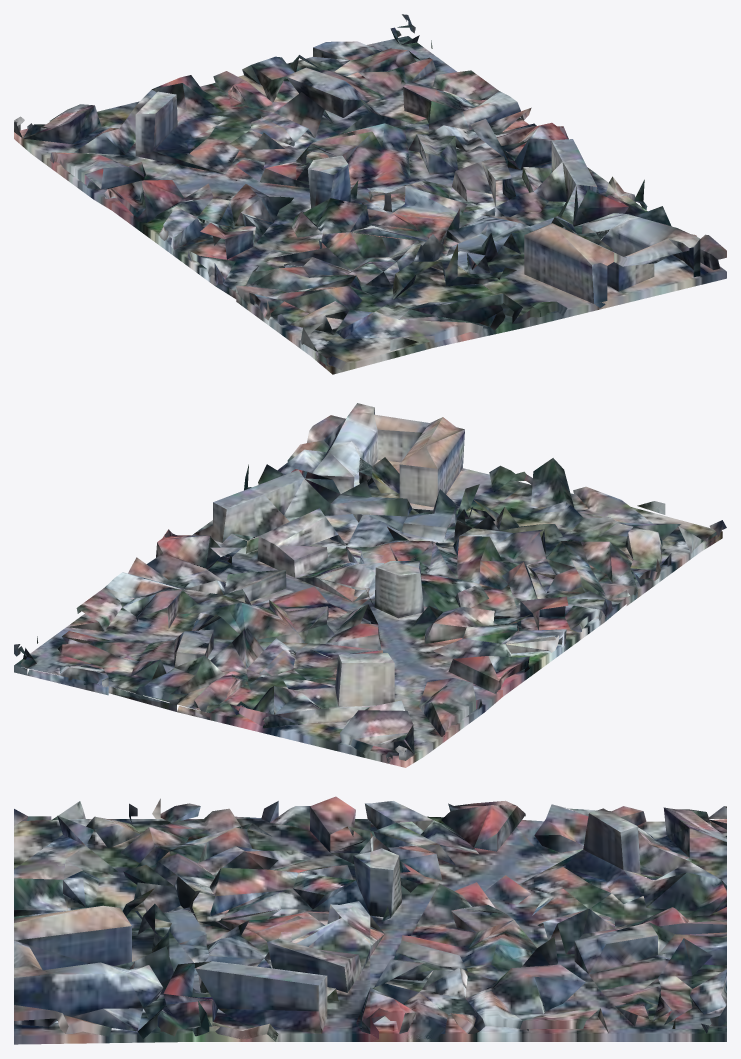
3 views of the same model, one above another, from view 1: azimuth 30°, elevation 25°; view 2: azimuth 150°, elevation 25°; view 3: azimuth 270°, elevation 25° (orthographic). The views are drawn at different scales.
Visible parts, largest first — view 1: 30436272704361426_0; view 2: 30436272704361426_0; view 3: 30436272704361426_0.
Part boxes in pixels (x1,y1,x2,y2): 30436272704361426_0: [14, 14, 726, 374]; 30436272704361426_0: [14, 403, 726, 767]; 30436272704361426_0: [14, 796, 726, 1044].
Size of the model in its own units: 221 by 30.82 by 306.
Materials: 1 (1 with a texture image).
